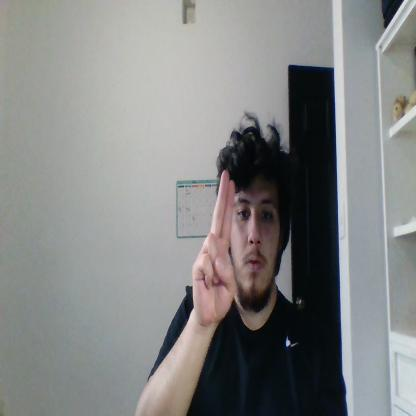U: (193, 169, 235, 322)
